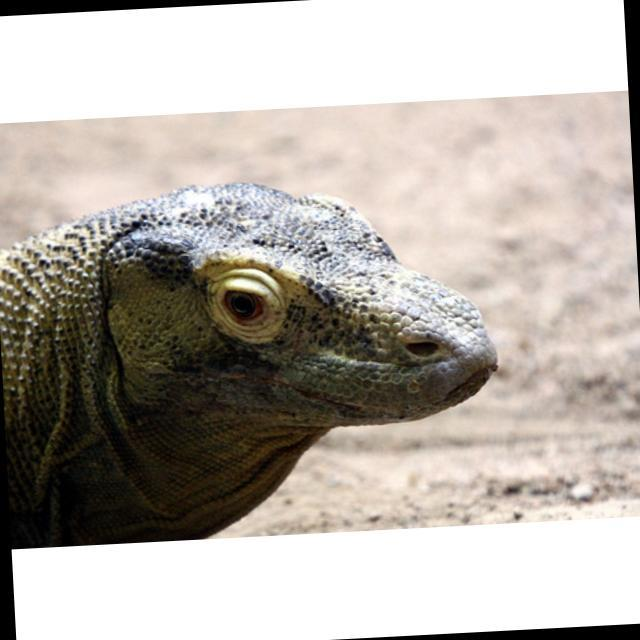KomodoDragon: (0, 167, 503, 546)
